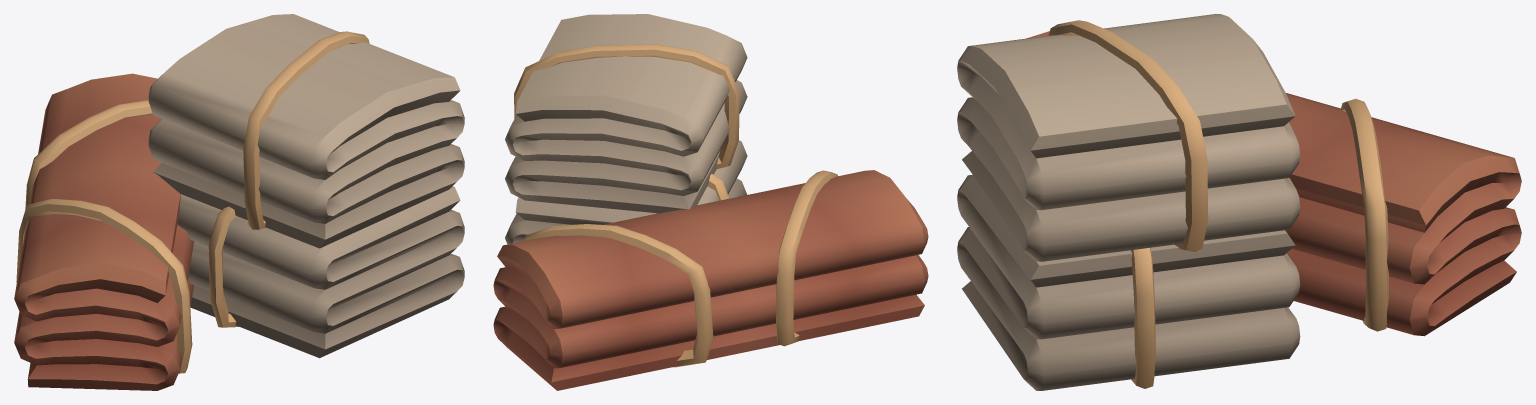
Rendered from kk_textiles.glb.
The picture shows the model from 3 angles, left to right: view 1: azimuth 30°, elevation 25°; view 2: azimuth 150°, elevation 25°; view 3: azimuth 270°, elevation 25°; orthographic projection. The views are drawn at different scales.
Visible parts, largest first — view 1: Textiles_Stack_Small; view 2: Textiles_Stack_Small; view 3: Textiles_Stack_Small.
Boxes of the visible parts, <box> form: Textiles_Stack_Small: <box>14,14,464,390</box>; Textiles_Stack_Small: <box>493,14,928,390</box>; Textiles_Stack_Small: <box>957,14,1521,390</box>.
Bounding box in the file's own units: 0.6 × 0.3373 × 0.5738.
1 material, 1 textured.
